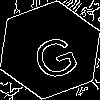G: (25, 25, 82, 83)
